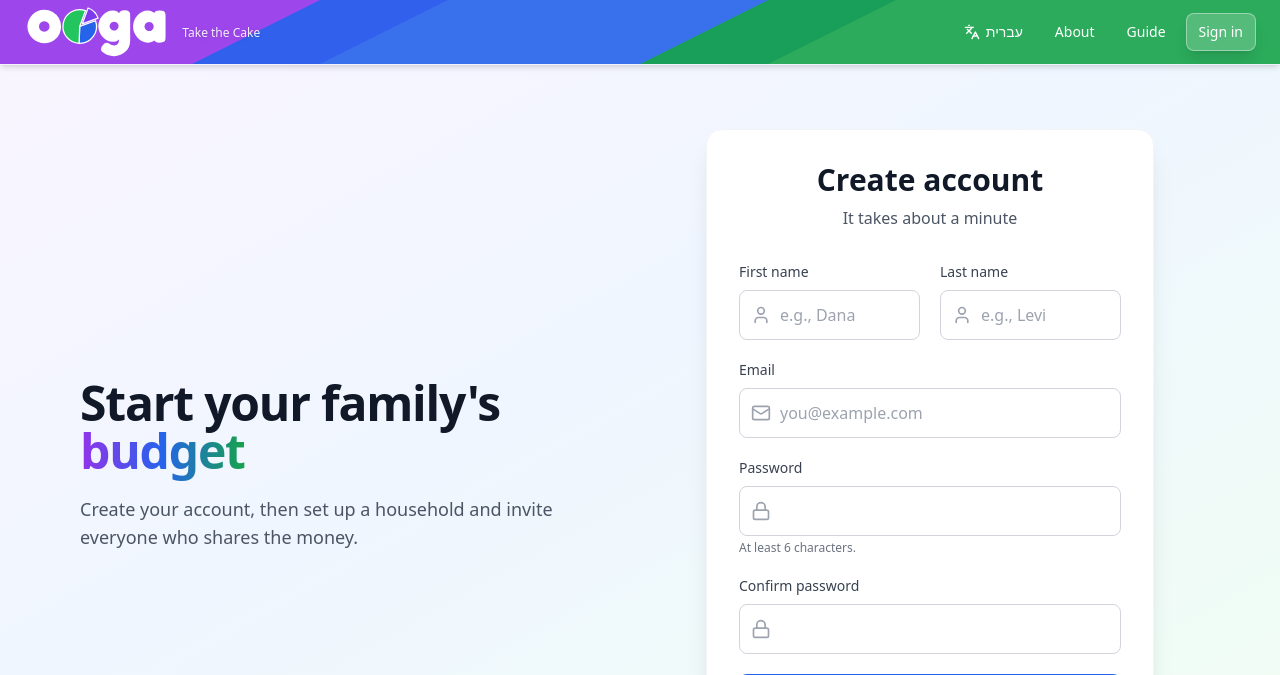
Test: Register page › signs up with trimmed names and asks the person to check their email
Type " Dana " into the field labelled "First name". click: (830, 315)
box: [739,290,920,340]
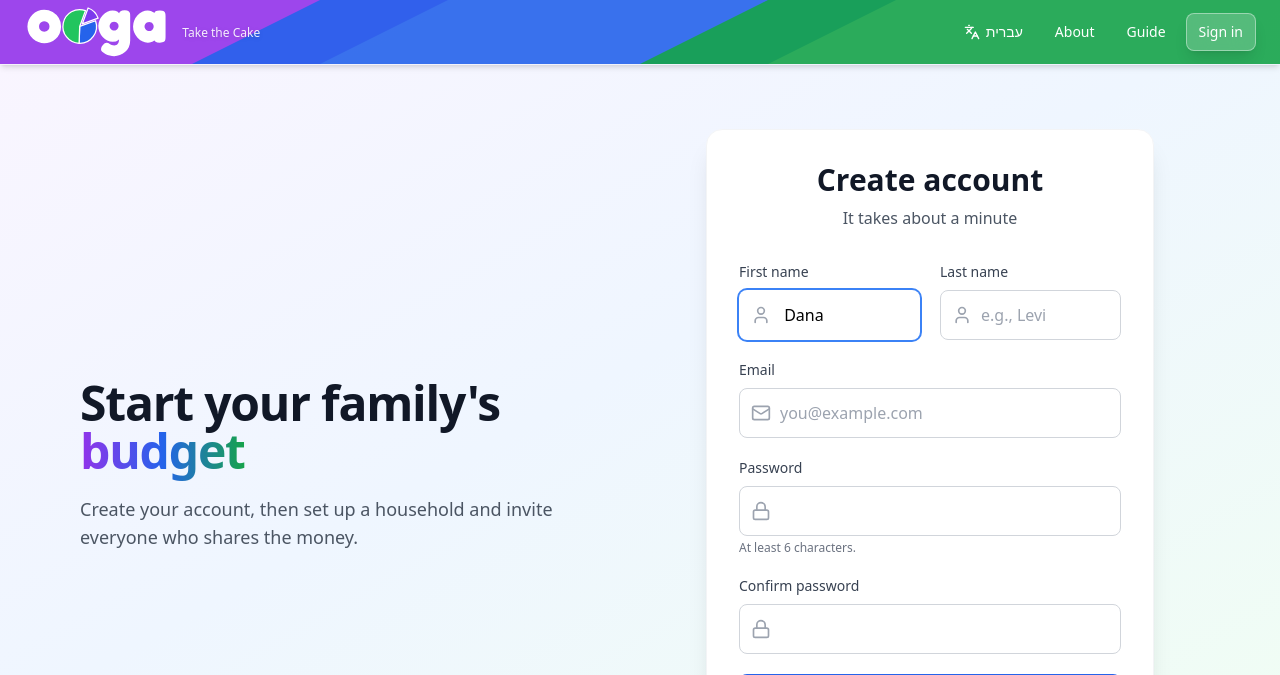
Type "Levi" into the field labelled "Last name". click: (1030, 315)
box: [940,290,1121,340]
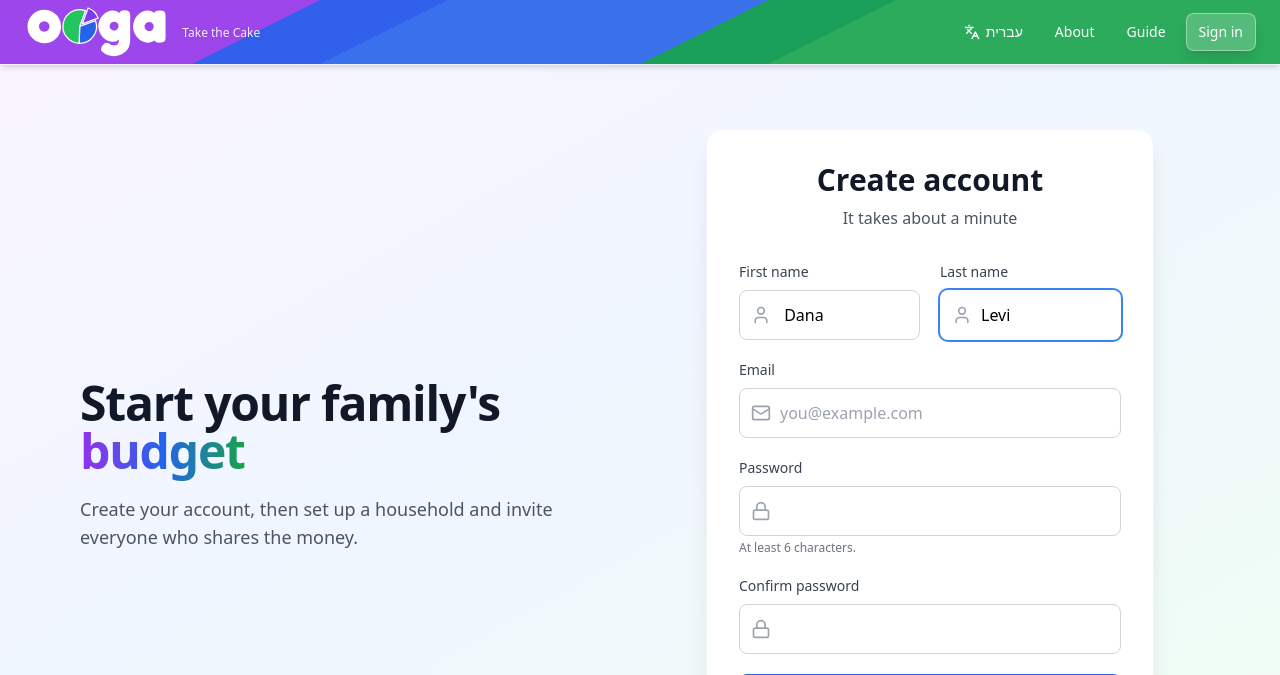
Type "dana@example.com" into the field labelled "Email". click: (930, 413)
box: [739,388,1121,438]
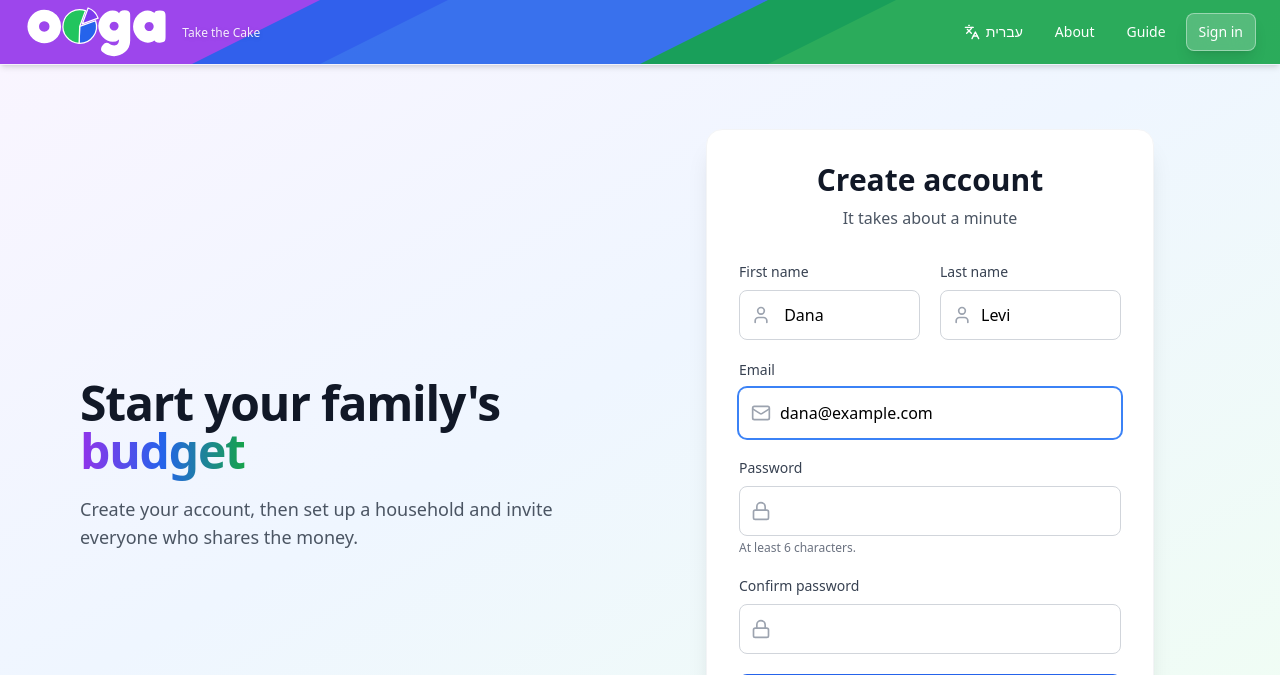
Type "secret1" into the password field labelled "Password". click: (930, 511)
box: [739,486,1121,536]
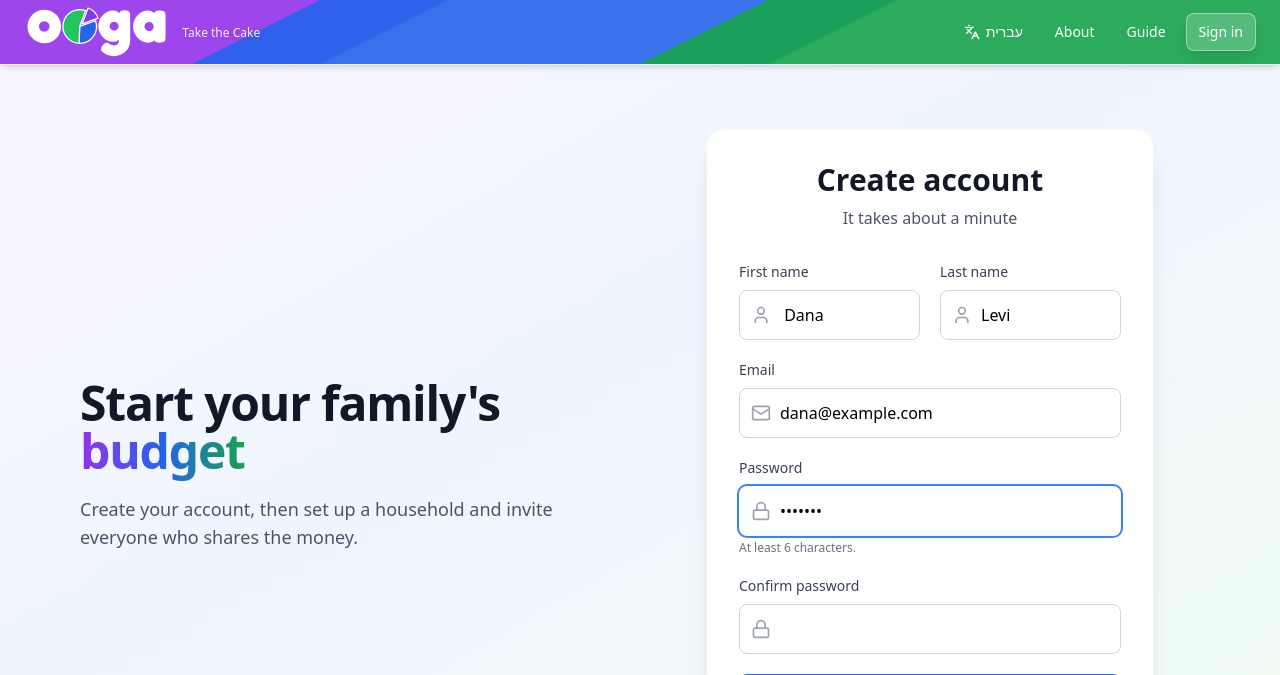
Type "secret1" into the password field labelled "Confirm password". click: (930, 629)
box: [739,604,1121,654]
(page scrolled)
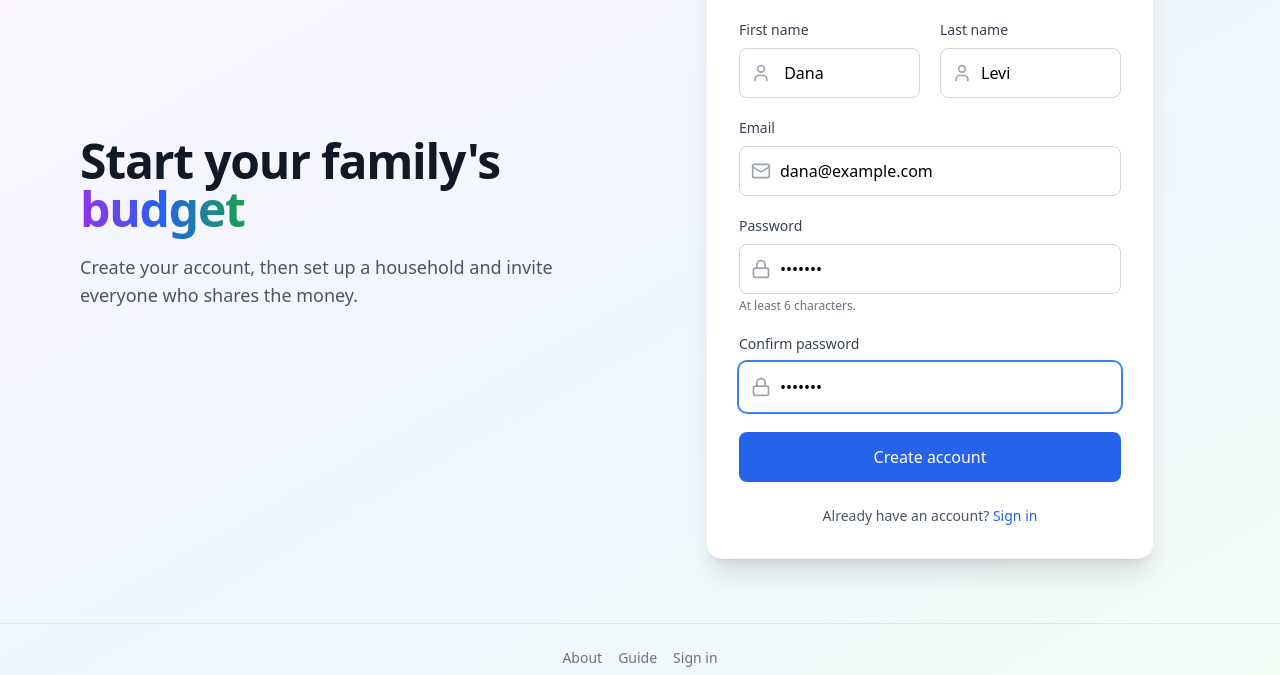
Click the button "Create account". click: (930, 457)
box: [739,432,1121,482]
(page scrolled)
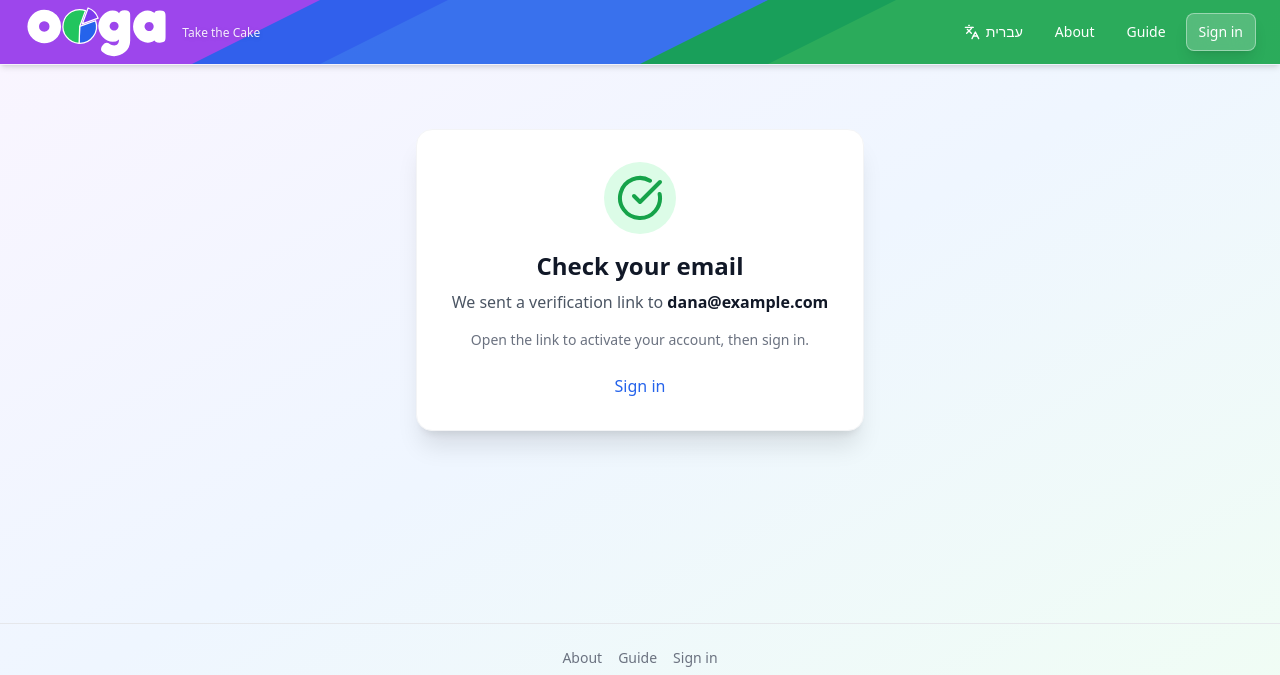
Now the heading "Check your email" is shown, box [536,249,744,282]
Now the text "dana@example.com" is shown, box [667,291,828,313]
